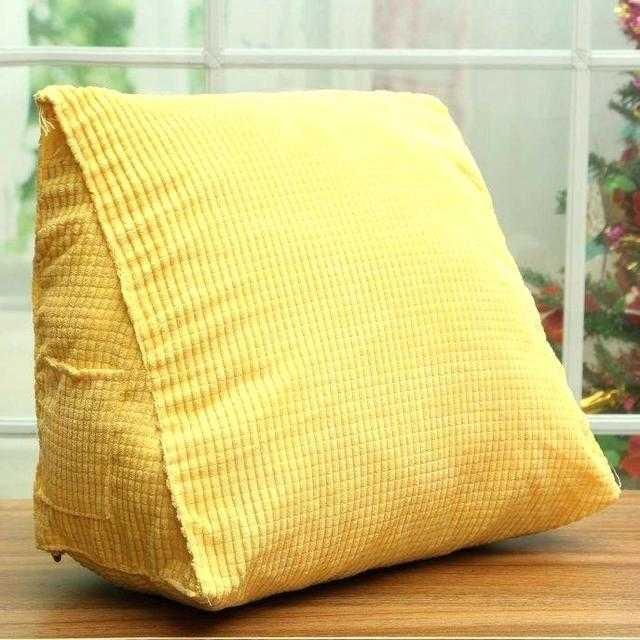pillow: (30, 82, 622, 614)
